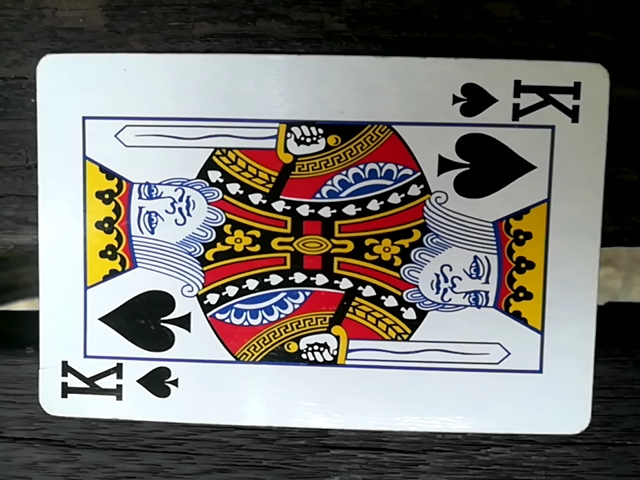ht k: (33, 59, 602, 443)
